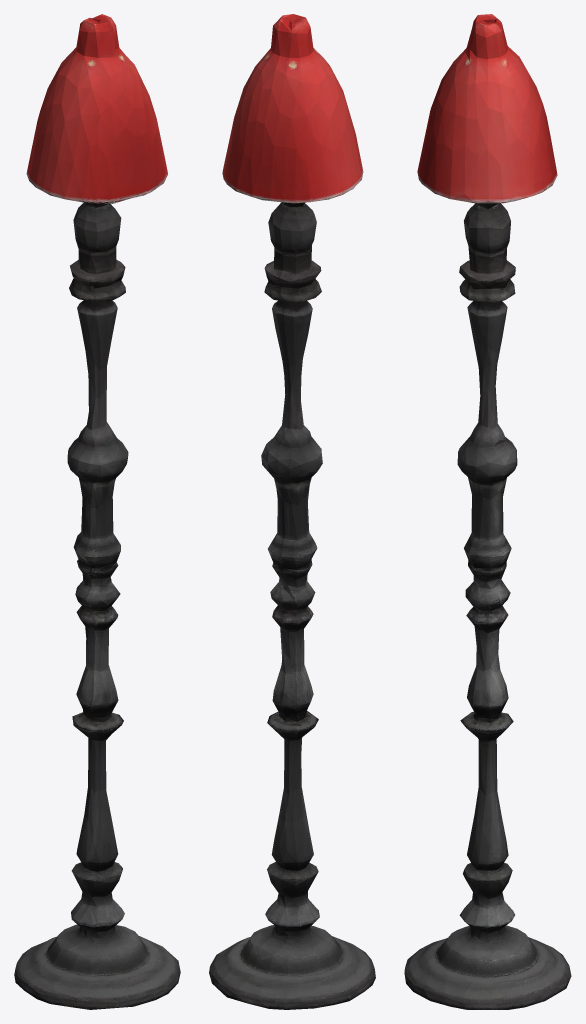
File: 83055bdc-1368-4ef9-9c12-a72f13c23a1e.glb
The picture shows the model from 3 angles, left to right: view 1: azimuth 30°, elevation 25°; view 2: azimuth 150°, elevation 25°; view 3: azimuth 270°, elevation 25°; orthographic projection.
Parts seen in each view (by area): view 1: world; view 2: world; view 3: world.
Part boxes in pixels (left/top/right/bottom): world: left=14, top=14, right=180, bottom=1009; world: left=209, top=14, right=375, bottom=1009; world: left=404, top=14, right=571, bottom=1009.
Size of the model in its own units: 0.1588 by 1 by 0.1584.
1 material, 1 textured.
